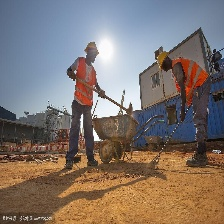helmet: (85, 43, 99, 54), (158, 50, 166, 68)
person: (156, 52, 214, 167), (67, 40, 100, 170)
vest: (72, 64, 92, 107), (181, 60, 205, 88)
